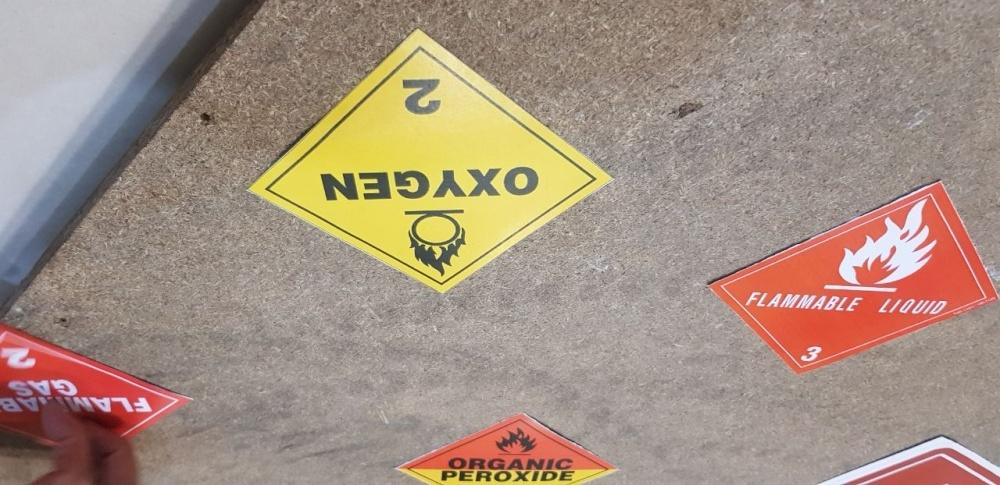flammable: (704, 179, 999, 379), (2, 320, 190, 461)
organic-peroxide: (391, 413, 620, 484)
oxidizer: (248, 25, 612, 295)
